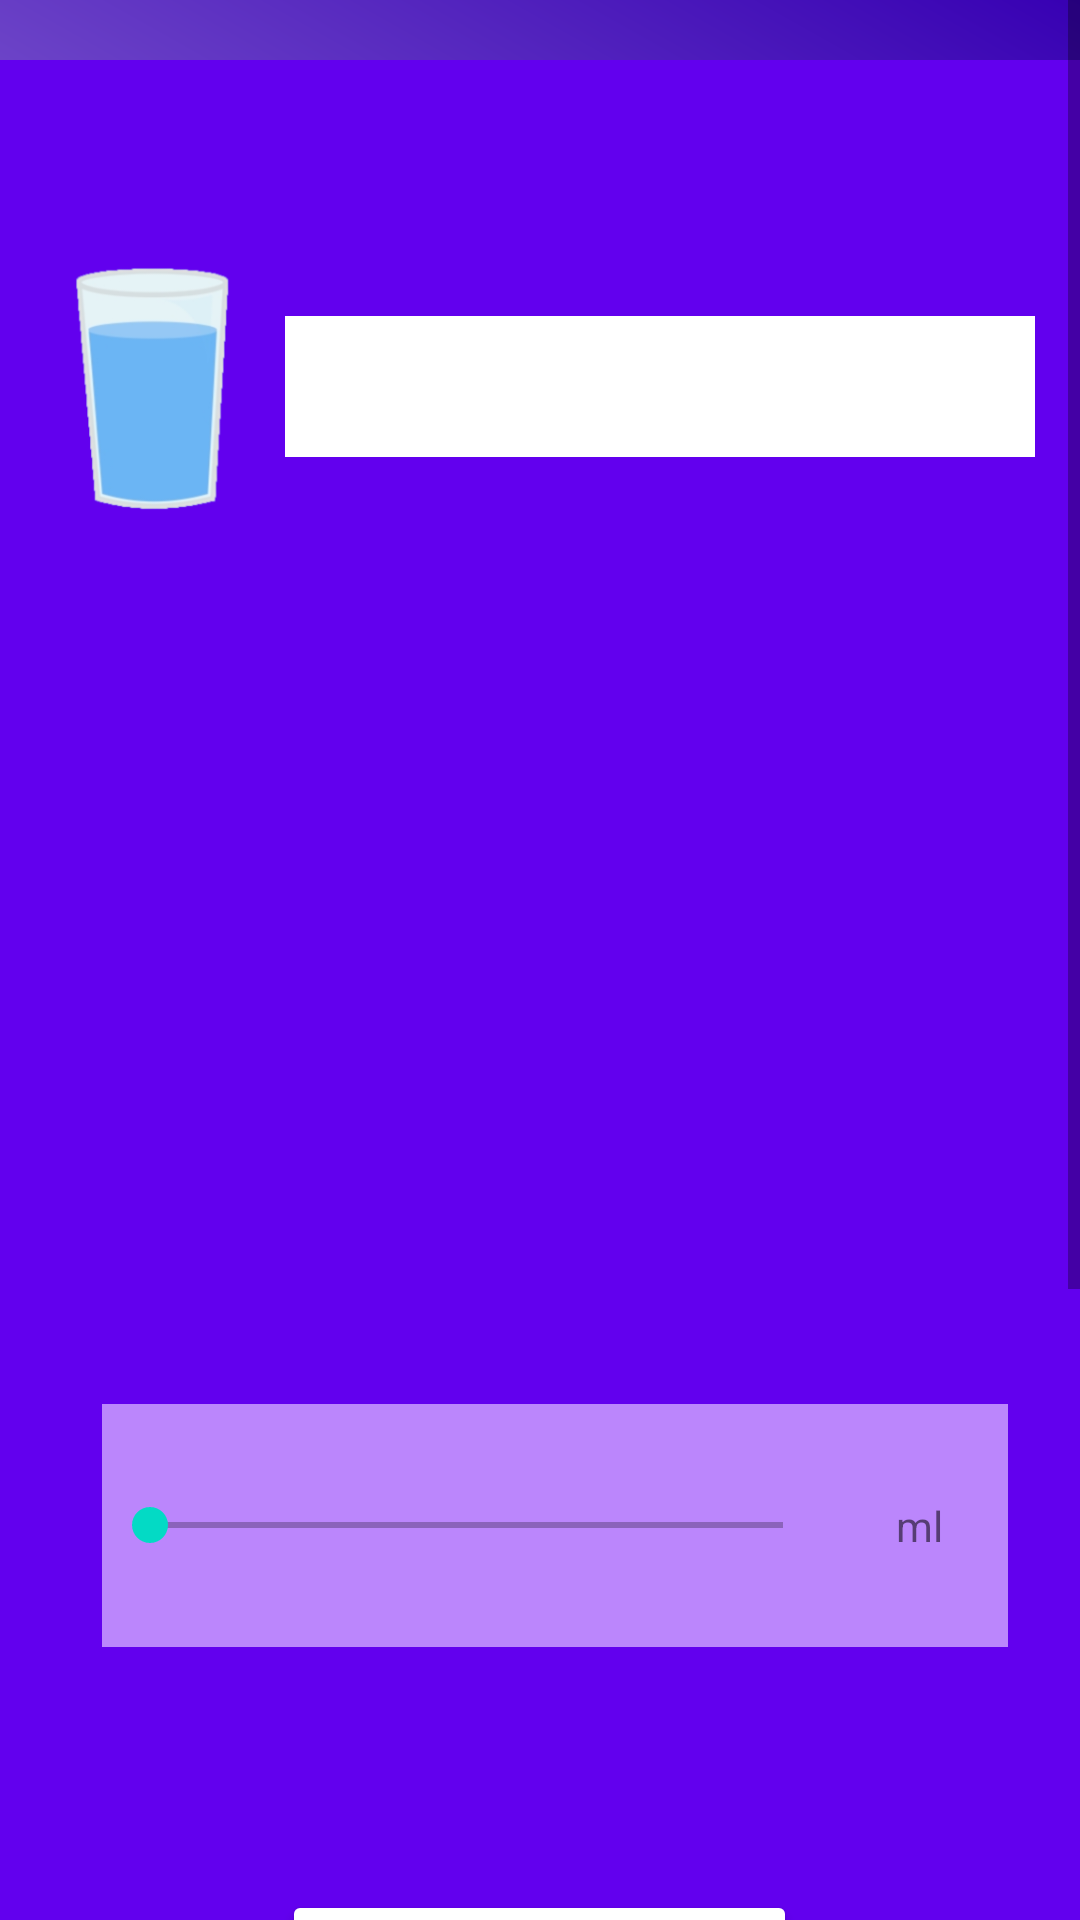

Where icons sit on this 1080x1920 app screen, as [x1, y1, x2, y2]:
waterglass: [76, 268, 229, 509]
